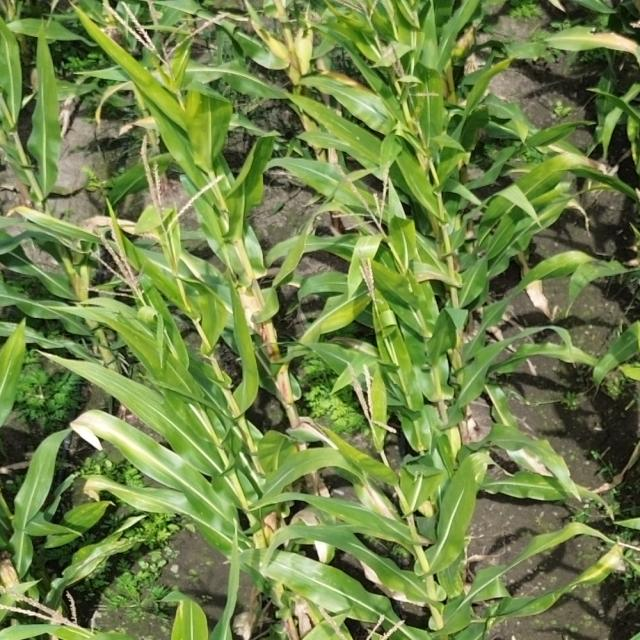gray-leaf-spot: (533, 251, 581, 272), (520, 477, 572, 496), (140, 274, 164, 306), (581, 263, 609, 290)
northern-leaf-blight: (91, 416, 176, 474), (95, 478, 180, 509), (565, 26, 640, 54), (358, 476, 395, 519), (578, 554, 620, 586)
southern-leaf-blight: (305, 104, 365, 142), (73, 536, 121, 563), (410, 64, 445, 88)
